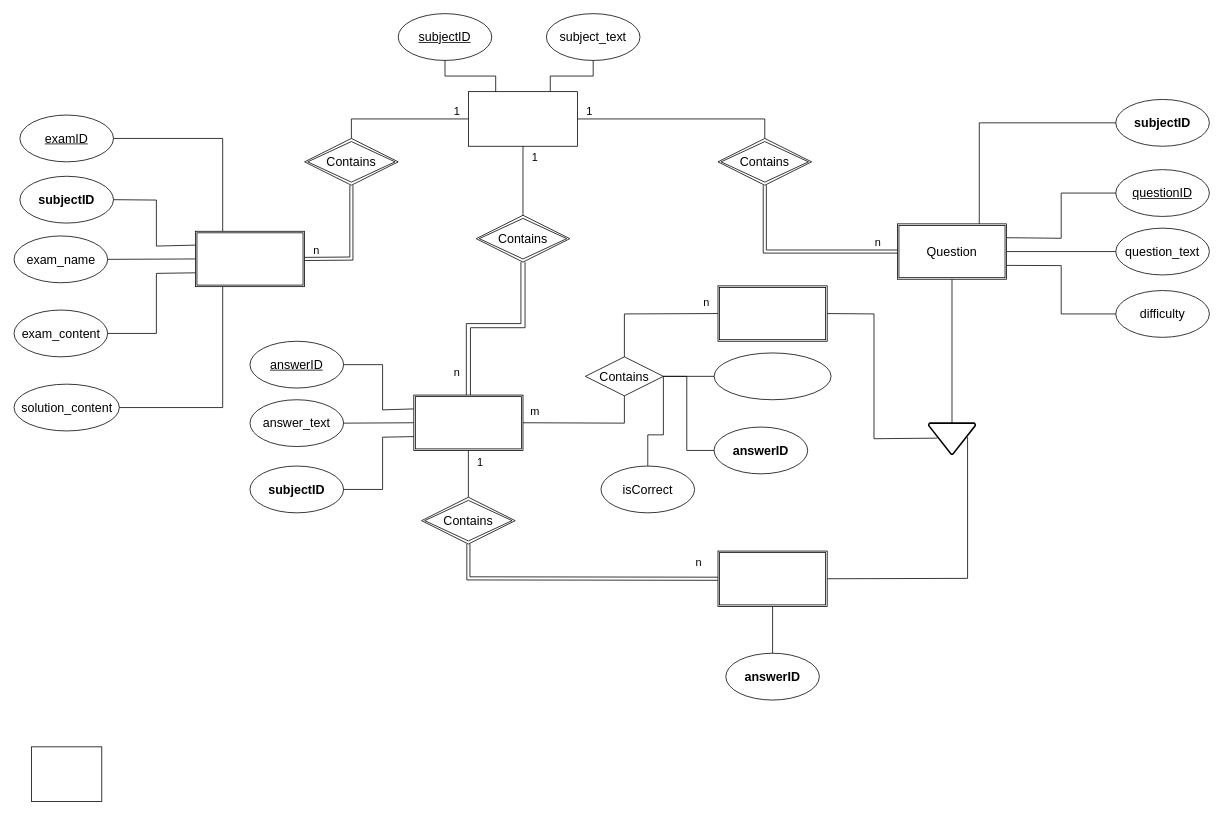
Image size: 1223x815. Some labels were removed from this diagram. The shapes that lost their labels are listed below. From the top down, each one's box as (x1, y1, x2, y2) in pixels, then its label:
(468, 91, 578, 146): Subject
(195, 230, 305, 287): Exam
(717, 285, 827, 341): Multiple-Choice Question
(713, 352, 831, 400): multi_questionID
(413, 394, 523, 450): Answer
(927, 422, 976, 455): ISA
(717, 550, 827, 606): Open Question
(31, 746, 102, 801): Authors: Emil Glater Gilad Faibish
